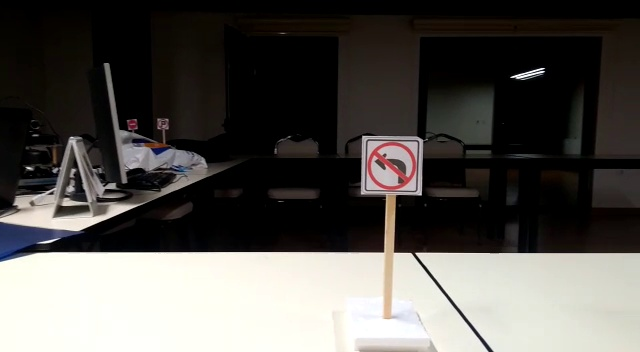sola_donulmez: (366, 139, 420, 193)
